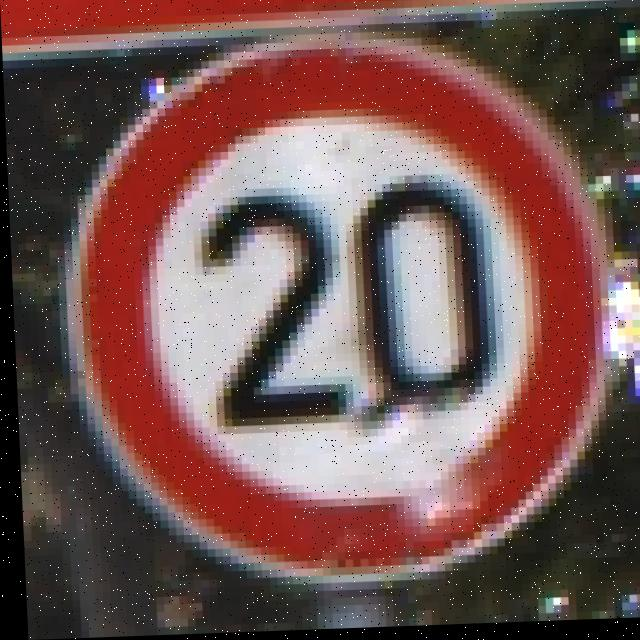speed_limit_20: (65, 27, 629, 589)
